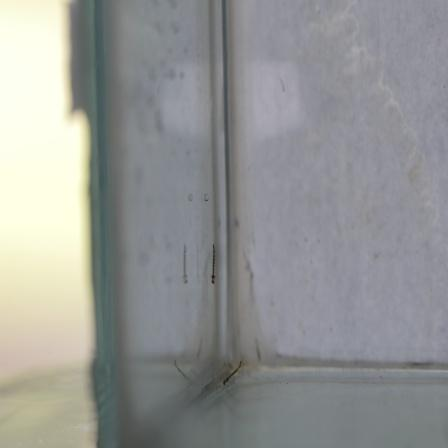Jentik-Nyamuk: (218, 357, 246, 389), (206, 241, 221, 288)
